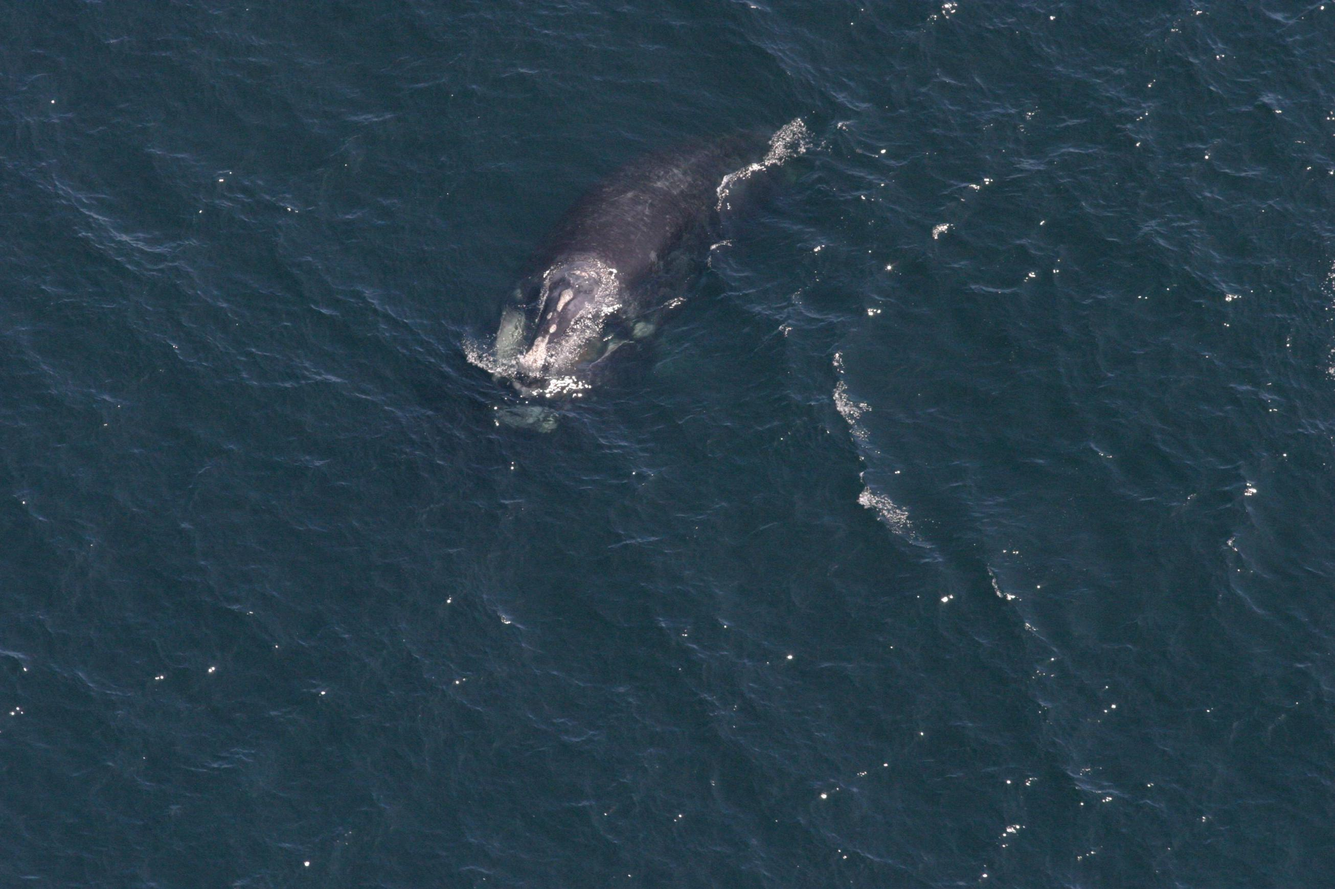whale: (472, 77, 851, 442)
